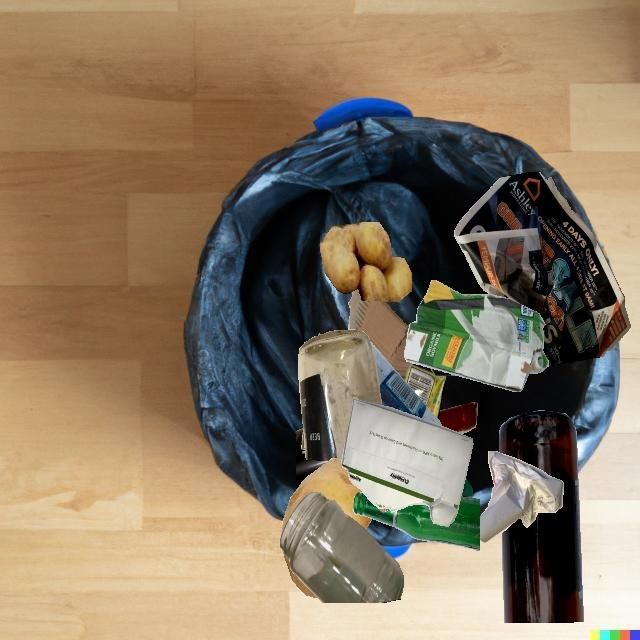biowaste: (319, 222, 412, 301), (282, 458, 372, 532)
cardboard: (405, 280, 548, 392), (348, 288, 412, 381), (430, 368, 459, 376)
glass: (499, 410, 583, 623), (280, 492, 404, 603), (298, 330, 382, 460), (352, 492, 480, 551), (296, 428, 330, 490), (438, 402, 478, 434)
paper: (454, 172, 631, 366), (341, 399, 473, 527), (480, 451, 564, 544)
plastic: (382, 405, 465, 481)
trash: (303, 334, 414, 447)
